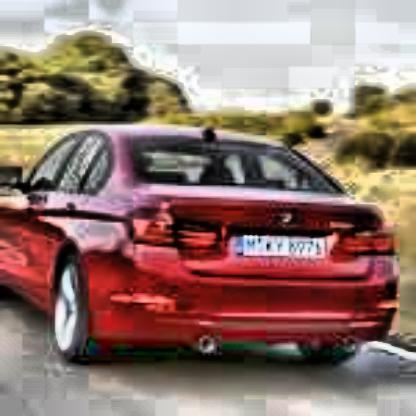BMW 3 Series Sedan 2012: (3, 123, 405, 375)
